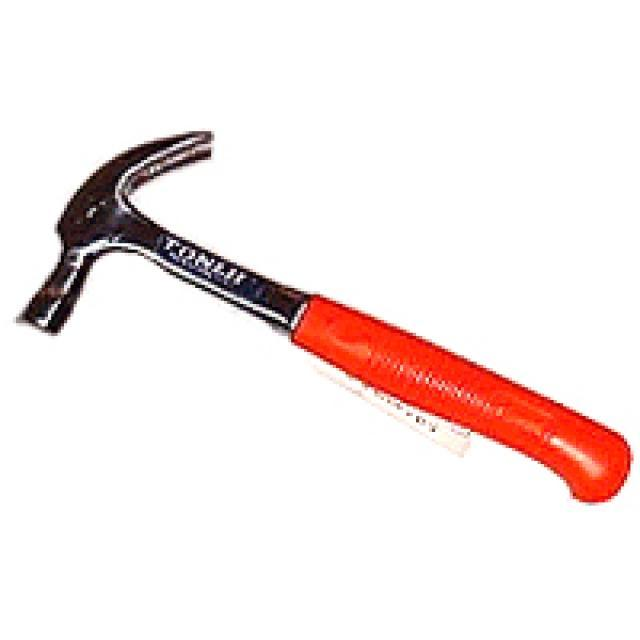hammer: (14, 124, 634, 514)
